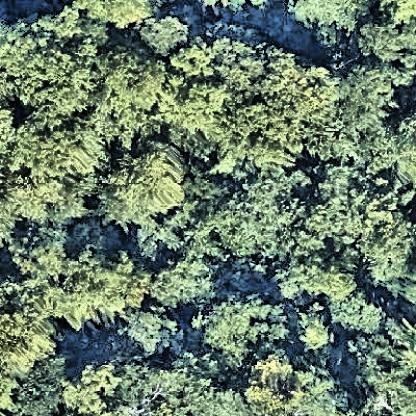tree-top: (7, 233, 158, 329), (1, 6, 108, 119), (170, 29, 264, 146), (11, 120, 108, 230), (200, 176, 292, 274), (98, 137, 193, 229), (115, 354, 247, 416), (192, 287, 290, 365), (352, 314, 416, 416), (248, 355, 352, 416), (260, 46, 340, 124), (97, 40, 173, 117), (357, 194, 416, 293), (7, 344, 80, 416), (52, 356, 128, 416), (305, 165, 358, 246), (147, 252, 221, 309), (284, 1, 376, 44), (266, 262, 367, 297), (345, 71, 397, 138), (121, 304, 183, 359), (138, 7, 195, 63), (352, 14, 408, 65), (295, 297, 335, 363)
